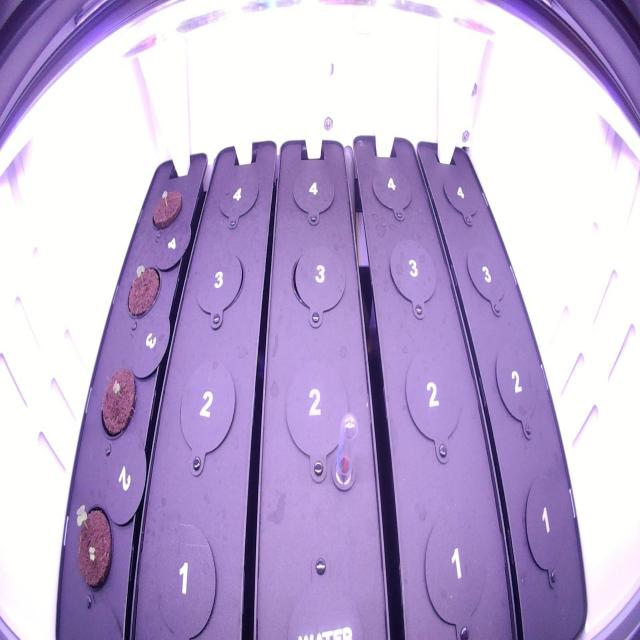empty_pod: (415, 502, 496, 636), (278, 354, 358, 479), (146, 517, 224, 640), (396, 344, 466, 459), (174, 354, 243, 461), (516, 474, 576, 593), (284, 238, 351, 333), (490, 333, 546, 437), (380, 228, 442, 318), (192, 245, 248, 323), (461, 234, 512, 318), (286, 161, 341, 234), (367, 154, 418, 223), (438, 160, 488, 229), (213, 168, 262, 229)
germination: (70, 496, 118, 602), (95, 361, 141, 445), (122, 256, 164, 326), (148, 181, 186, 237)
